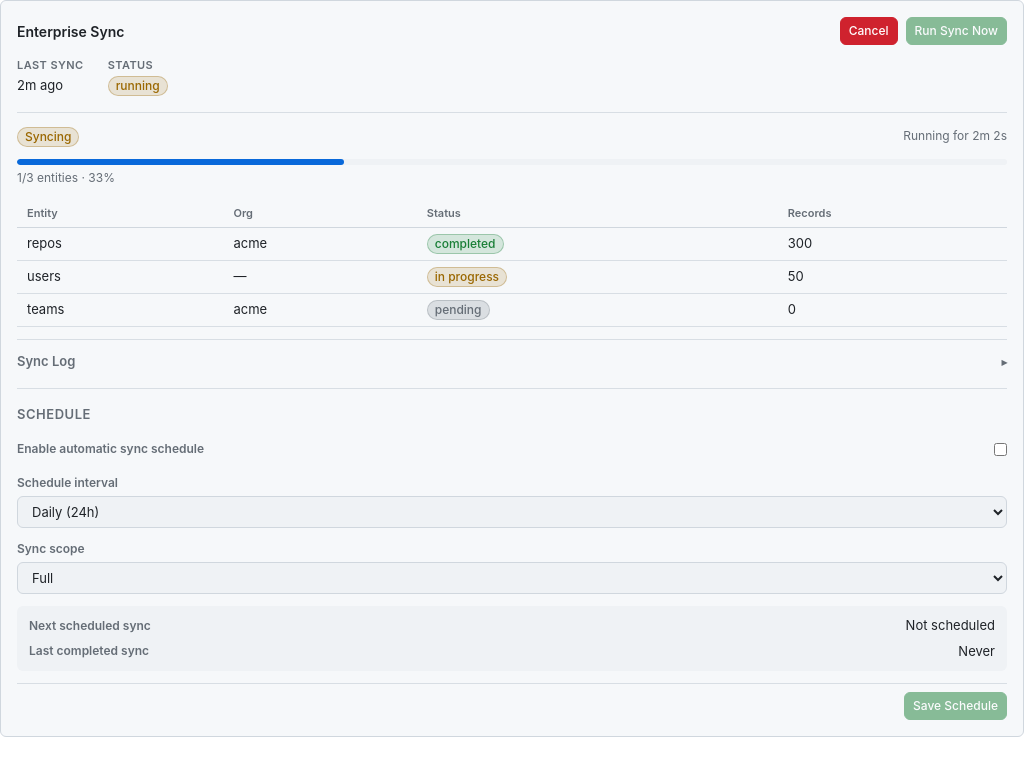
Scenario: SyncPanel – sync log viewer › displays log entries when expanded
Check: the element with test id "sync-log-viewer" is shown, box left=17, top=339, right=1007, bottom=376
Click the button "Sync Log ▸" at {"x": 46, "y": 361}, box left=17, top=348, right=1007, bottom=376
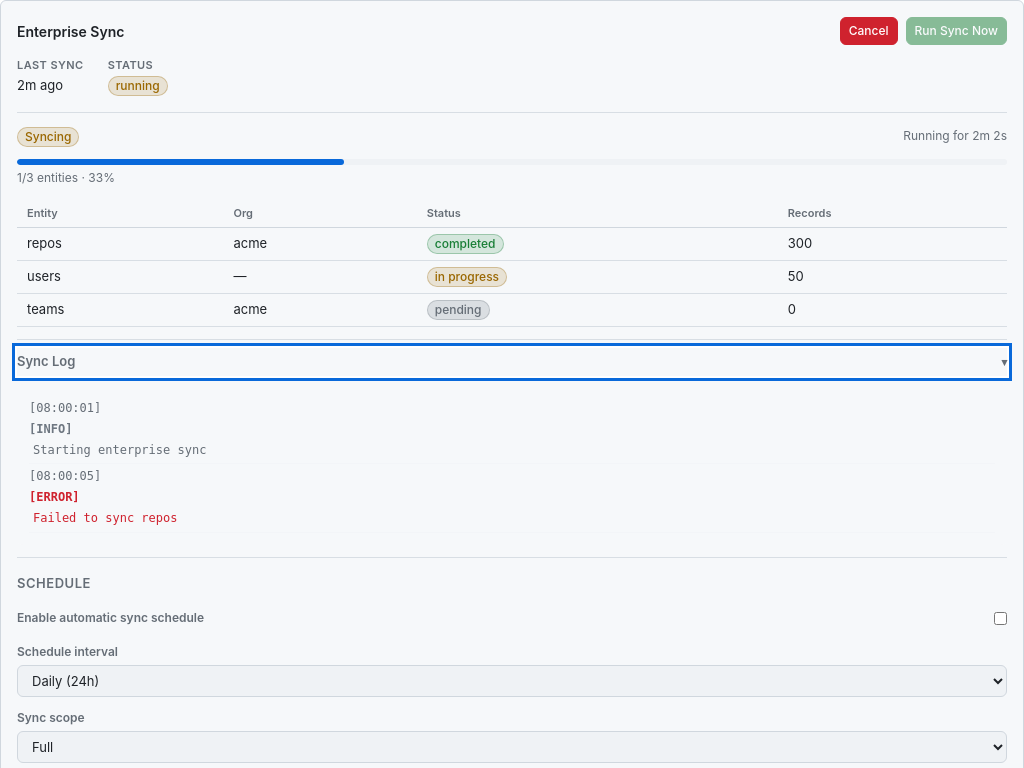
Check: the text "Starting enterprise sync" is shown, box left=33, top=443, right=206, bottom=457
Check: the text "Failed to sync repos" is shown, box left=33, top=511, right=178, bottom=525
